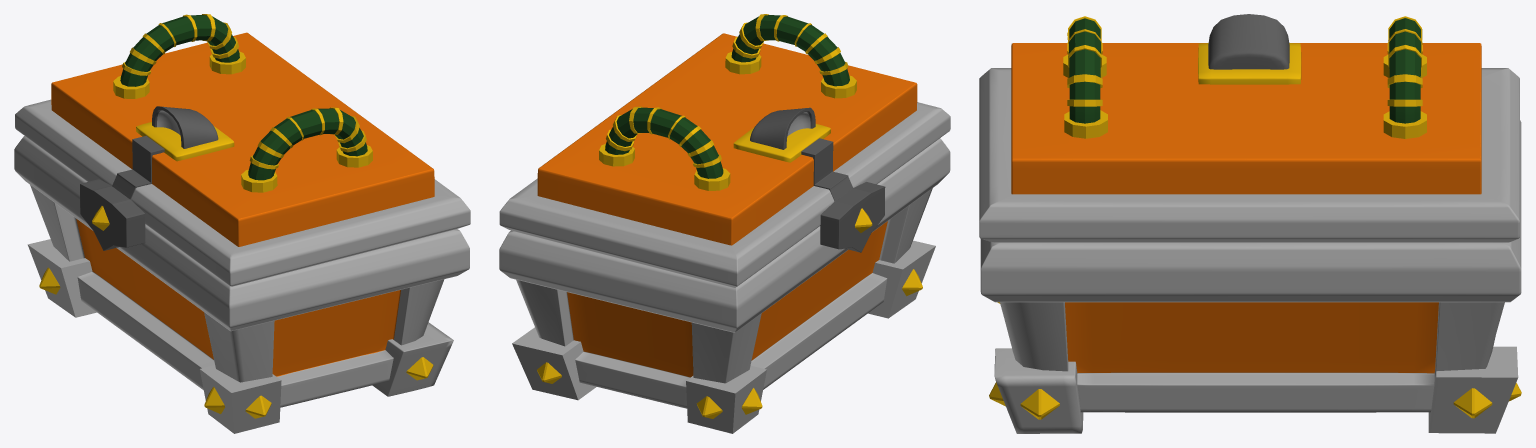
The model's file is Baul.fbx.
3 renders of one model, left to right at view 1: azimuth 30°, elevation 25°; view 2: azimuth 150°, elevation 25°; view 3: azimuth 270°, elevation 25°, orthographic. The views are drawn at different scales.
Parts seen in each view (by area): view 1: BaulSuperior, BaulInferior; view 2: BaulSuperior, BaulInferior; view 3: BaulSuperior, BaulInferior.
Part boxes in pixels (x1,y1,x2,y2): BaulSuperior: (15,14,470,286); BaulInferior: (14,136,469,433); BaulSuperior: (499,14,950,287); BaulInferior: (499,138,950,433); BaulSuperior: (979,14,1519,242); BaulInferior: (980,120,1521,433).
Size of the model in its own units: 89.14 by 88.21 by 124.
